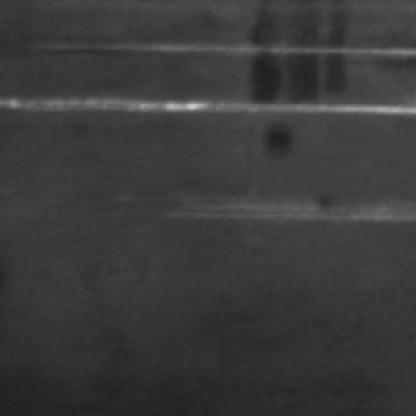inclusion: (243, 4, 360, 114)
scratches: (2, 85, 412, 125), (48, 31, 414, 69), (172, 181, 406, 229)
